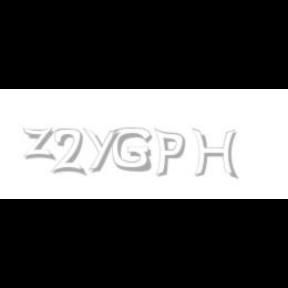2: (51, 128, 85, 176)
G: (112, 128, 152, 172)
H: (192, 128, 238, 180)
P: (153, 128, 185, 178)
y: (83, 128, 123, 172)
z: (22, 128, 58, 160)
